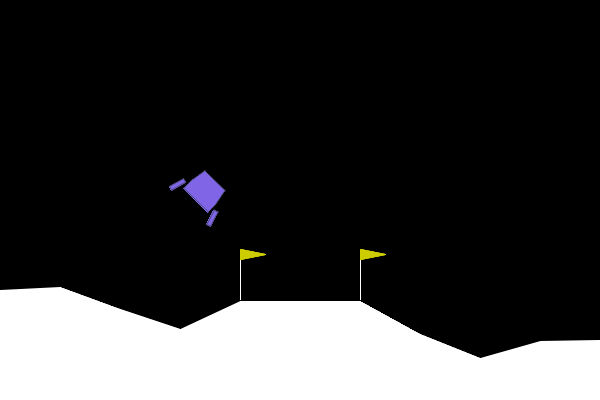lander: (167, 159, 237, 229)
